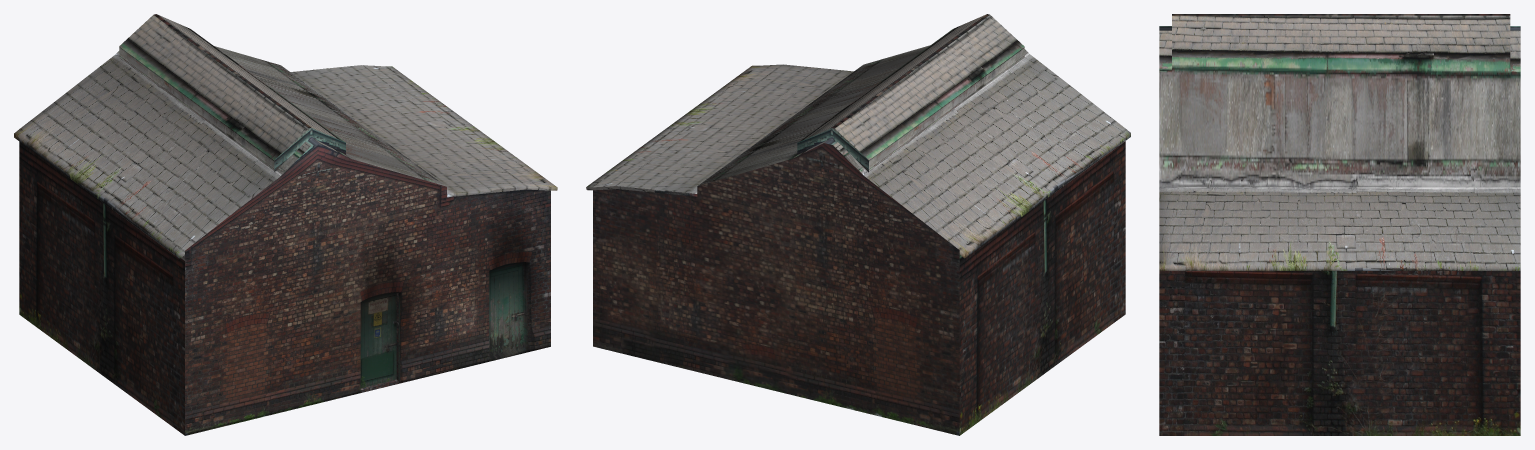
Rendered from industrial16.obj.
The picture shows the model from 3 angles, left to right: view 1: azimuth 30°, elevation 25°; view 2: azimuth 150°, elevation 25°; view 3: azimuth 270°, elevation 25°; orthographic projection. The views are drawn at different scales.
Visible parts, largest first — view 1: industrial16; view 2: industrial16; view 3: industrial16.
Boxes of the visible parts, x1=… form: industrial16: x1=14, y1=14, x2=557, y2=435; industrial16: x1=586, y1=14, x2=1130, y2=435; industrial16: x1=1159, y1=14, x2=1520, y2=435.
Size of the model in its own units: 442 by 304 by 336.
Materials: 1 (1 with a texture image).
